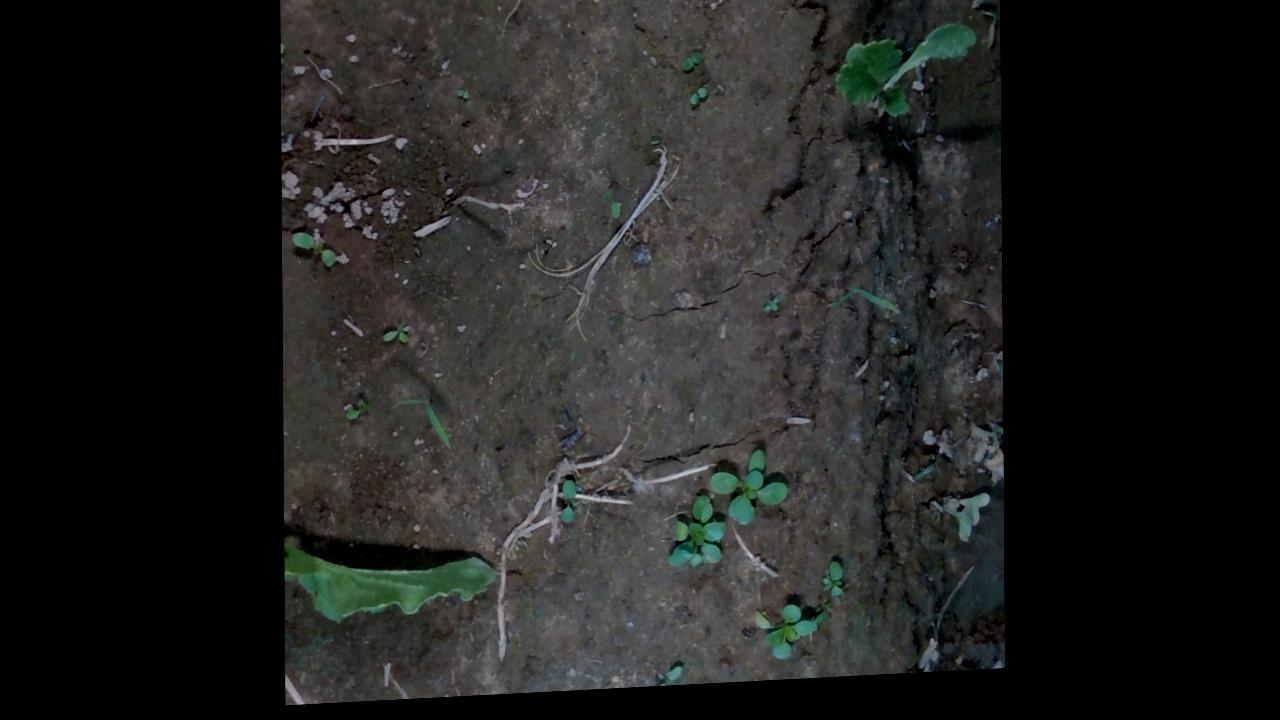weed: (289, 232, 339, 275), (818, 571, 842, 609), (558, 483, 574, 532), (380, 324, 410, 349), (650, 671, 681, 693), (680, 56, 704, 79), (343, 402, 364, 426), (688, 93, 707, 116), (761, 303, 780, 324), (454, 94, 470, 108)
